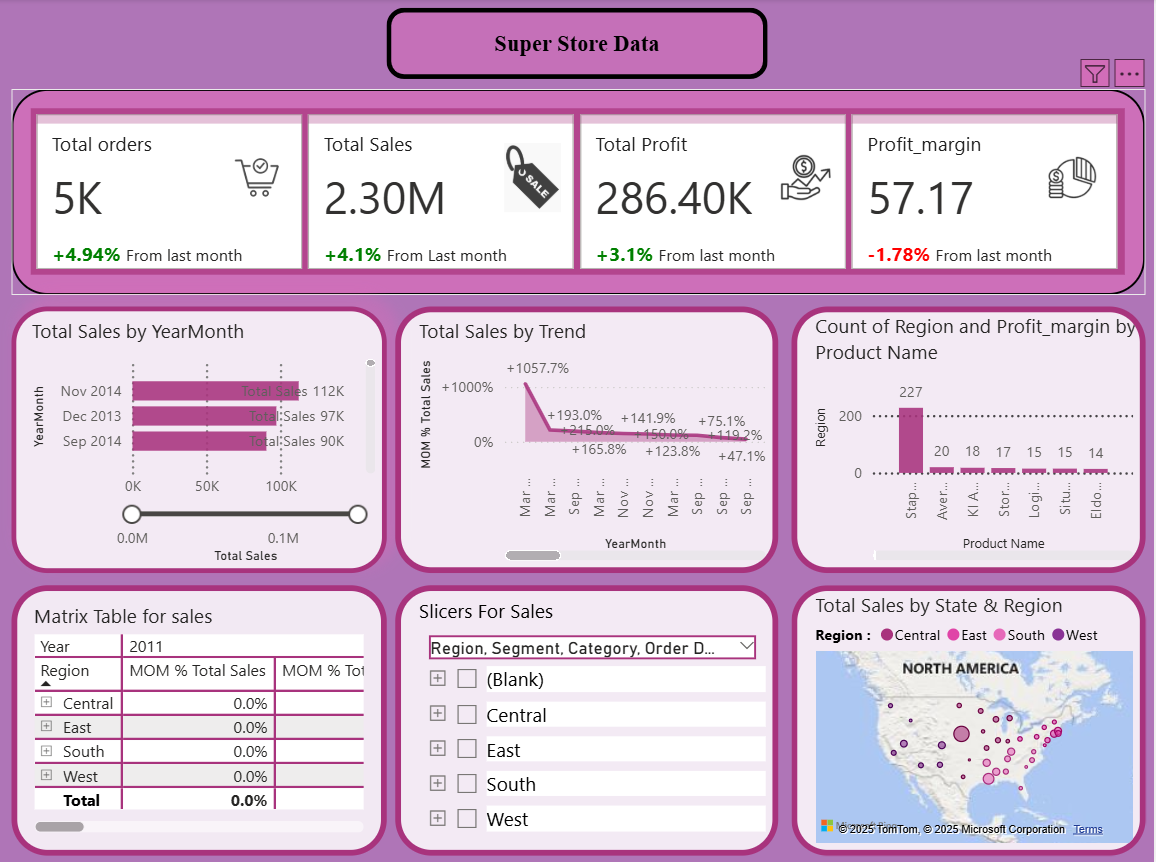

What the dashboard file says about the page in this screenshot:
{"tool":"powerbi","page":{"name":"Page 1","canvas":[960,720],"ordinal":0},"visuals":[{"type":"shape","box":[322.2,7.3,317,59.2],"z":0},{"type":"cardVisual","fields":{"Data":["Superstore.Total orders","Superstore.Total Sales","Superstore.Total Profit","Superstore.Profit_margin"]},"box":[10.4,74.8,942.6,171.5],"z":1000},{"type":"clusteredBarChart","fields":{"Y":["Superstore.Total Sales"],"Category":["DateTable.YearMonth"]},"box":[10.4,255.7,311.8,221.4],"z":2000},{"type":"lineChart","title":"Total Sales by Trend","fields":{"Y":["Superstore.MOM % Total Sales"],"Category":["DateTable.YearMonth"]},"box":[329.4,255.7,318,221.4],"z":3000},{"type":"pivotTable","title":"Matrix Table for sales","fields":{"Rows":["Superstore.Region","Superstore.Category","Superstore.Sub-Category"],"Columns":["Superstore.Ship Date.Variation.Date Hierarchy.Year"],"Values":["Superstore.MOM % Total Sales","Superstore.MOM % Total Profit"]},"box":[10.4,487.4,311.8,224.5],"z":4000},{"type":"slicer","title":"Slicers For Sales","fields":{"Values":["Superstore.Region","Superstore.Segment","Superstore.Category","Superstore.Order Date","DateTable.YearMonth","Superstore.City"]},"box":[329.4,487.4,318,224.5],"z":5000},{"type":"clusteredColumnChart","fields":{"Category":["Superstore.Product Name"],"Y":["CountNonNull(Superstore.Region)"]},"box":[658.9,255.7,294.1,221.4],"z":6000},{"type":"map","title":"Total Sales by State & Region","fields":{"Category":["Superstore.State"],"Size":["Superstore.MOM % Total Sales"],"Series":["Superstore.Region"]},"box":[658.9,487.4,294.1,224.5],"z":6001}]}

Visuals, with their boxes in screenshot pixels (x1, y1, x2, y2), scaled from the page's 960x720 canvas onto the 1156x862 screenshot:
shape: [388, 9, 770, 80]
cardVisual - Superstore.Total orders x Superstore.Total Sales: [13, 90, 1148, 295]
clusteredBarChart - Superstore.Total Sales x DateTable.YearMonth: [13, 306, 388, 571]
"Total Sales by Trend" lineChart: [397, 306, 780, 571]
"Matrix Table for sales" pivotTable: [13, 584, 388, 852]
"Slicers For Sales" slicer: [397, 584, 780, 852]
clusteredColumnChart - Superstore.Product Name x CountNonNull(Superstore.Region): [793, 306, 1148, 571]
"Total Sales by State & Region" map: [793, 584, 1148, 852]
